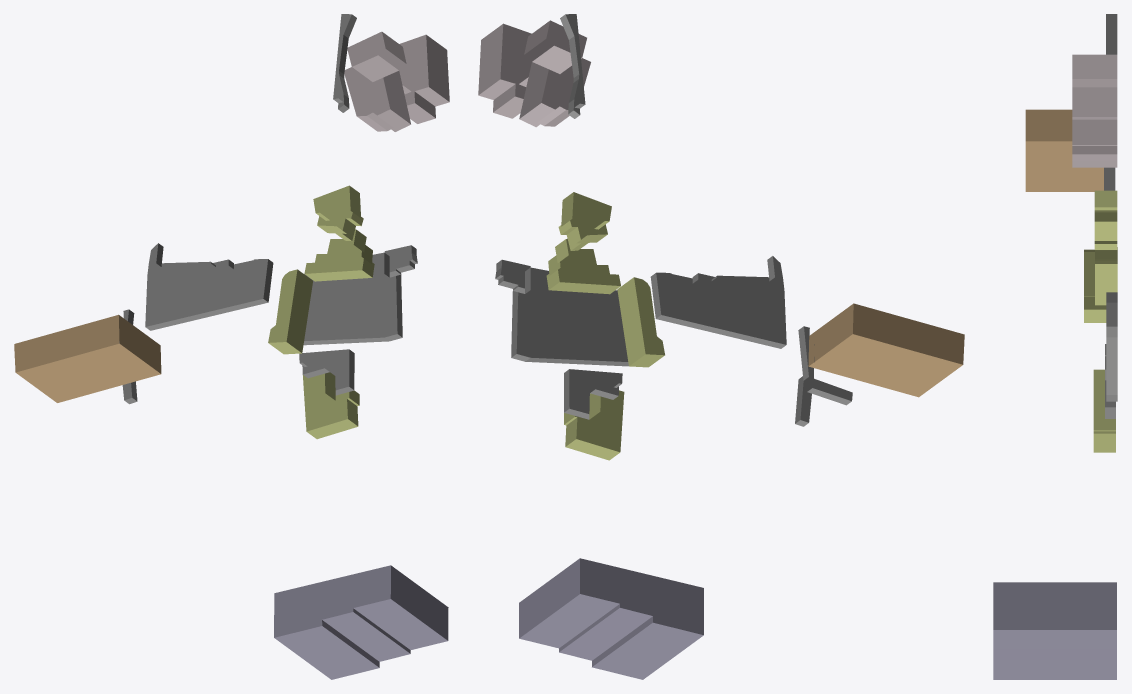
3 renders of one model, left to right at view 1: azimuth 30°, elevation 25°; view 2: azimuth 150°, elevation 25°; view 3: azimuth 270°, elevation 25°, orthographic. The views are drawn at different scales.
Visible parts, largest first — view 1: 0_3_0_1_2_2_2; view 2: 0_3_0_1_2_2_2; view 3: 0_3_0_1_2_2_2.
Part boxes in pixels (box(x1,y1,x2,y2)): 0_3_0_1_2_2_2: box(14, 14, 449, 679); 0_3_0_1_2_2_2: box(478, 14, 964, 679); 0_3_0_1_2_2_2: box(993, 14, 1117, 679).
Bounding box in the file's own units: 138 × 192 × 33.2.
